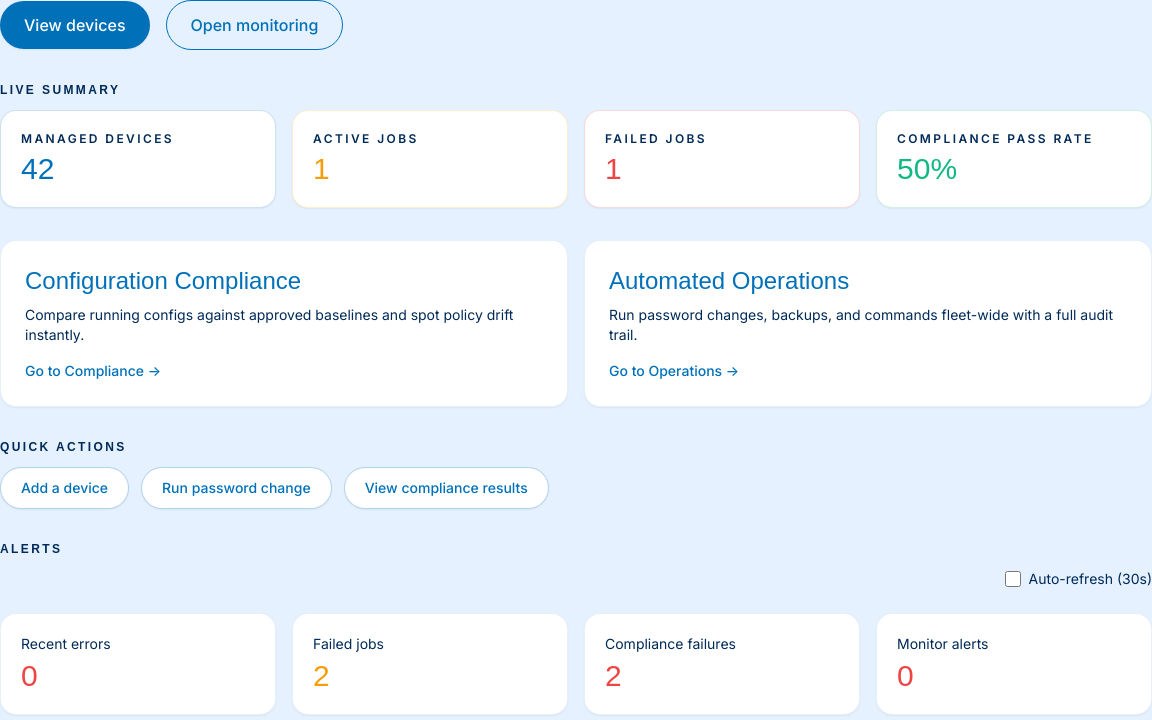
Home dashboard › opens a device context modal listing devices when the Managed devices card is clicked
Expected: the text "42" is shown, [21,152,54,185]
Click the button "Managed devices 42".
click(98, 138)  # box [0,110,276,208]
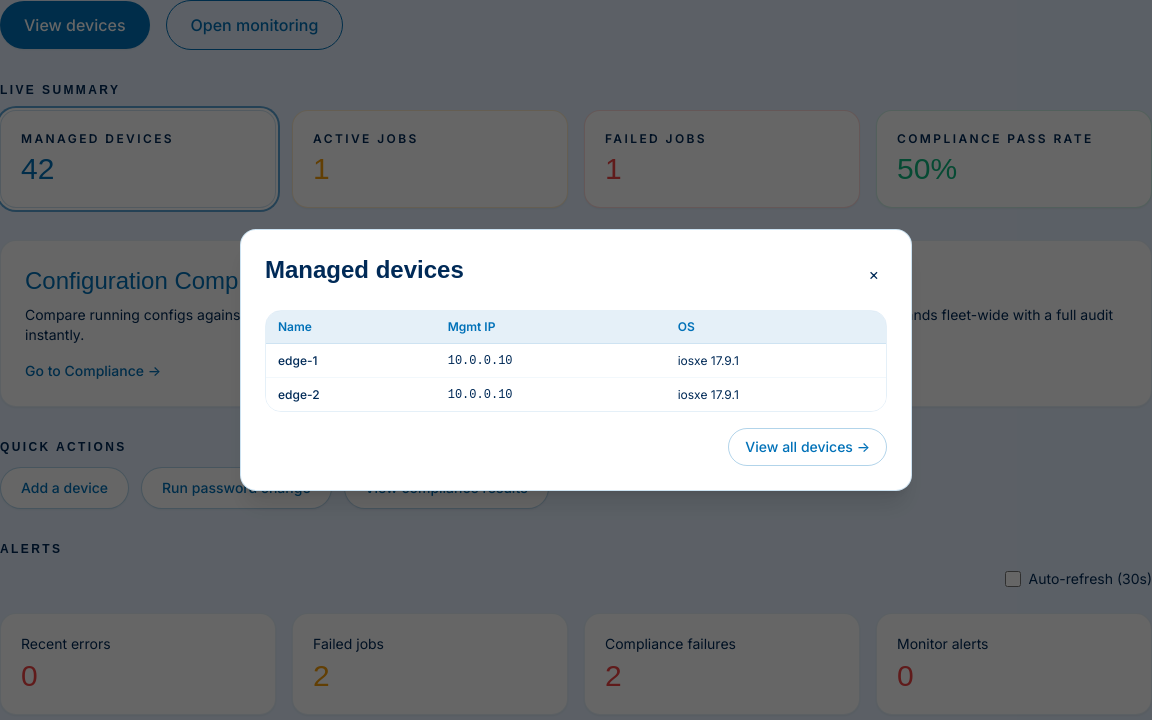
Now the heading "Managed devices" is shown, box [265,254,464,286]
Now the text "edge-1" is shown, box [278,352,318,368]
Now the text "edge-2" is shown, box [278,386,320,402]
